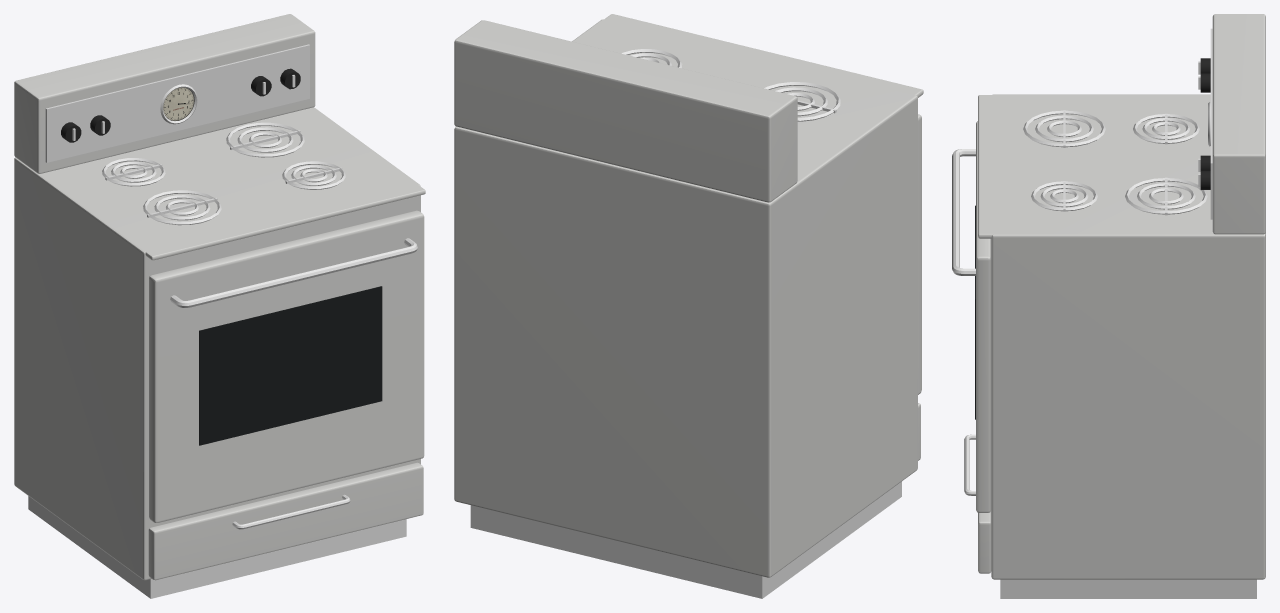
The model's file is SM_Kitchen_Stove.fbx.
3 renders of one model, left to right at view 1: azimuth 30°, elevation 25°; view 2: azimuth 150°, elevation 25°; view 3: azimuth 270°, elevation 25°, orthographic. The views are drawn at different scales.
Visible parts, largest first — view 1: SM_Kitchen_Stove; view 2: SM_Kitchen_Stove; view 3: SM_Kitchen_Stove.
Boxes of the visible parts, x1,y1,x2,y2 form: SM_Kitchen_Stove: (14,14,425,598); SM_Kitchen_Stove: (454,14,923,598); SM_Kitchen_Stove: (952,14,1265,598).
Size of the model in its own units: 76 by 112 by 70.9.
